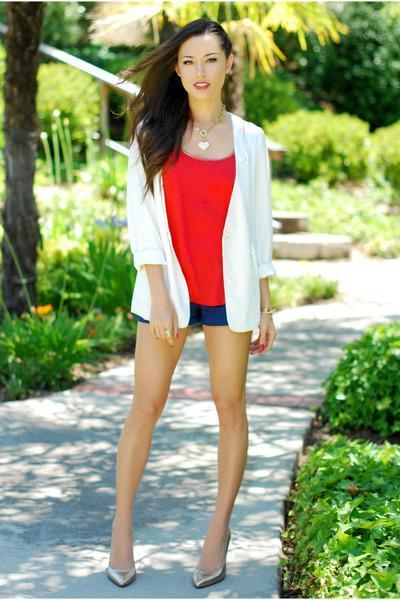long sleeve shirt: (122, 110, 275, 335)
short sleeve shirt: (161, 139, 242, 309)
